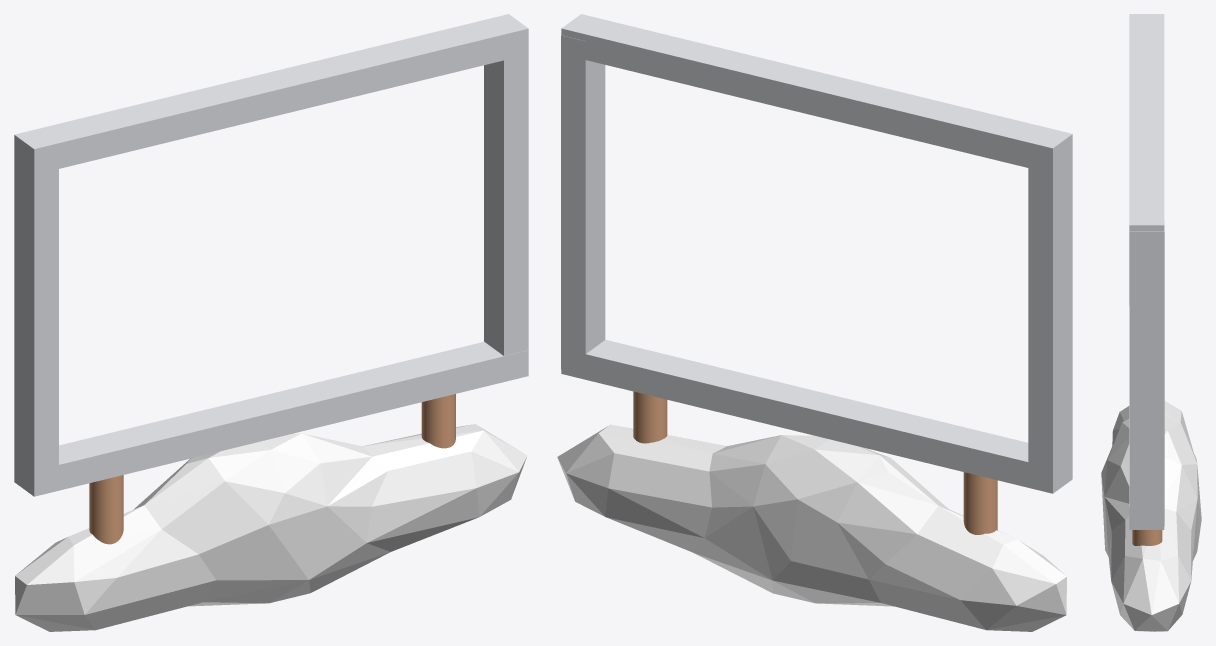
3 renders of one model, left to right at view 1: azimuth 30°, elevation 25°; view 2: azimuth 150°, elevation 25°; view 3: azimuth 270°, elevation 25°, orthographic. The views are drawn at different scales.
Visible parts, largest first — view 1: Box (×4), Cloud, Cylinder (×2); view 2: Box (×4), Cloud, Cylinder (×2); view 3: Box (×3), Cloud, Cylinder.
Boxes of the visible parts, x1,y1,x2,y2 form: Box (×4): (14, 14, 528, 496); Cloud: (15, 424, 526, 631); Cylinder (×2): (89, 394, 455, 544); Box (×4): (561, 14, 1072, 493); Cloud: (557, 424, 1066, 631); Cylinder (×2): (633, 391, 997, 534); Box (×3): (1129, 14, 1164, 529); Cloud: (1101, 401, 1201, 631); Cylinder: (1132, 530, 1162, 545).
Size of the model in its own units: 10.36 by 9.95 by 2.01.
